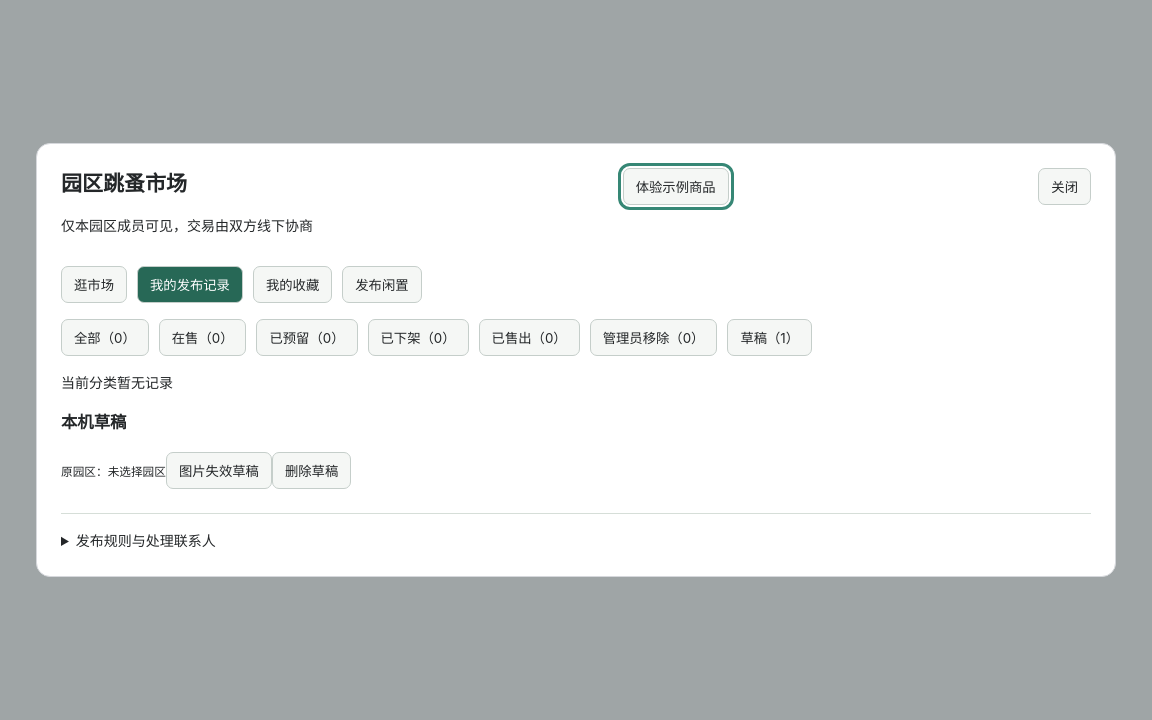
Test: blocks publication while a restored draft image is unreadable and allows removing it
Click the button "图片失效草稿" at (219, 471), box [166,452,272,489]
(page scrolled)
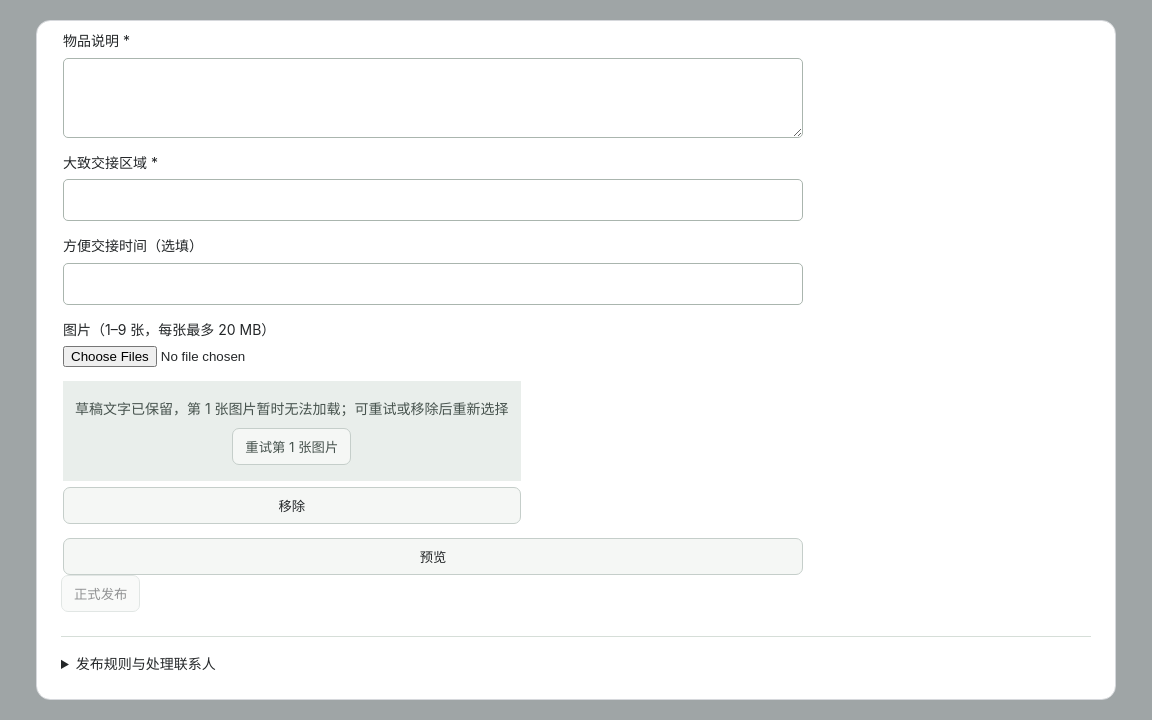
Now the text "草稿文字已保留，第 1 张图片暂时无法加载；可重试或移除后重新选择 重试第 1 张图片" is shown, box [63,381,521,481]
Now the button "正式发布" is disabled, box [61,575,140,612]
Click the button with aria-label "移除第 1 张图片" at (292, 506), box [63,487,521,524]
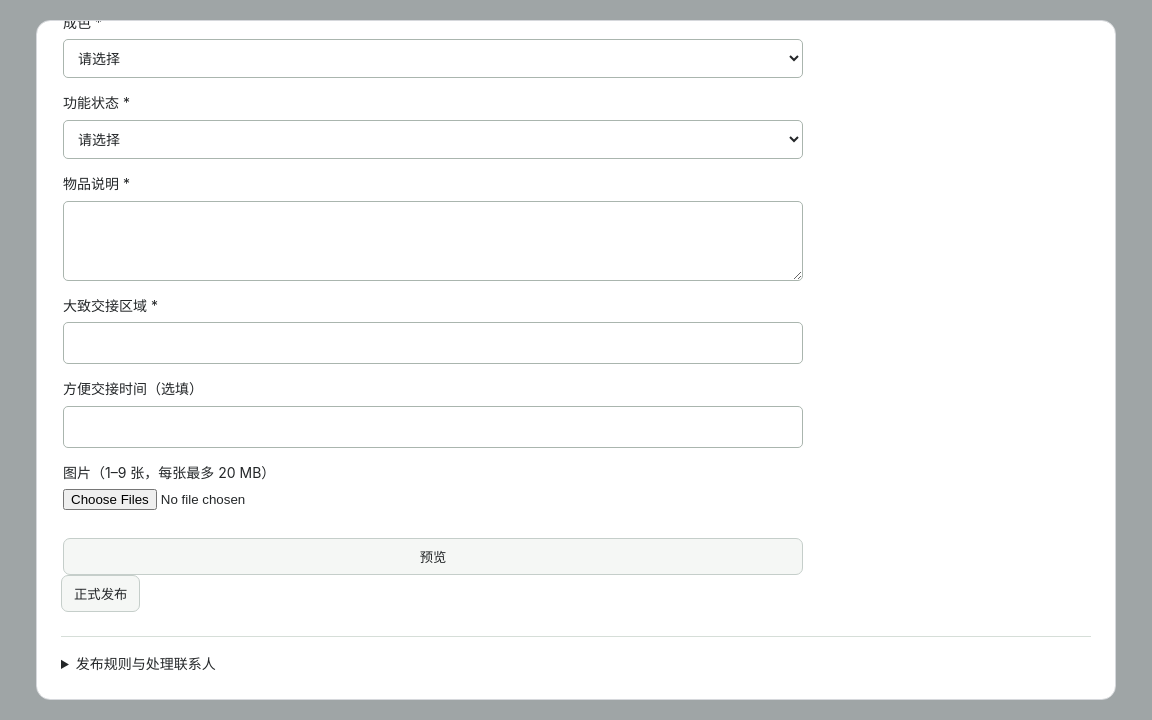
Now the button "正式发布" is enabled, box [61,575,140,612]
